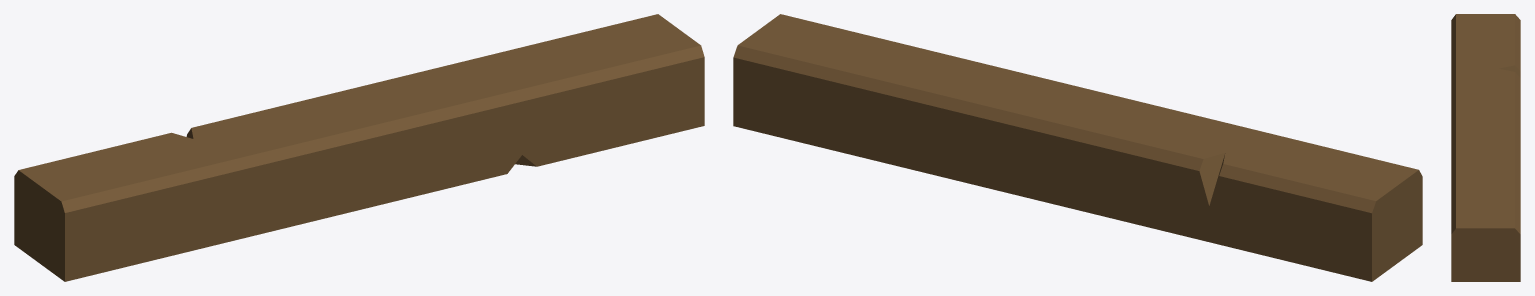
The model's file is wood_structure_2.glb.
The picture shows the model from 3 angles, left to right: view 1: azimuth 30°, elevation 25°; view 2: azimuth 150°, elevation 25°; view 3: azimuth 270°, elevation 25°; orthographic projection. The views are drawn at different scales.
Visible parts, largest first — view 1: wood_structure_2; view 2: wood_structure_2; view 3: wood_structure_2.
Part boxes in pixels (x1,y1,x2,y2): wood_structure_2: [14, 14, 704, 281]; wood_structure_2: [733, 14, 1422, 281]; wood_structure_2: [1451, 14, 1520, 281].
Size of the model in its own units: 1 by 0.1164 by 0.1369.
